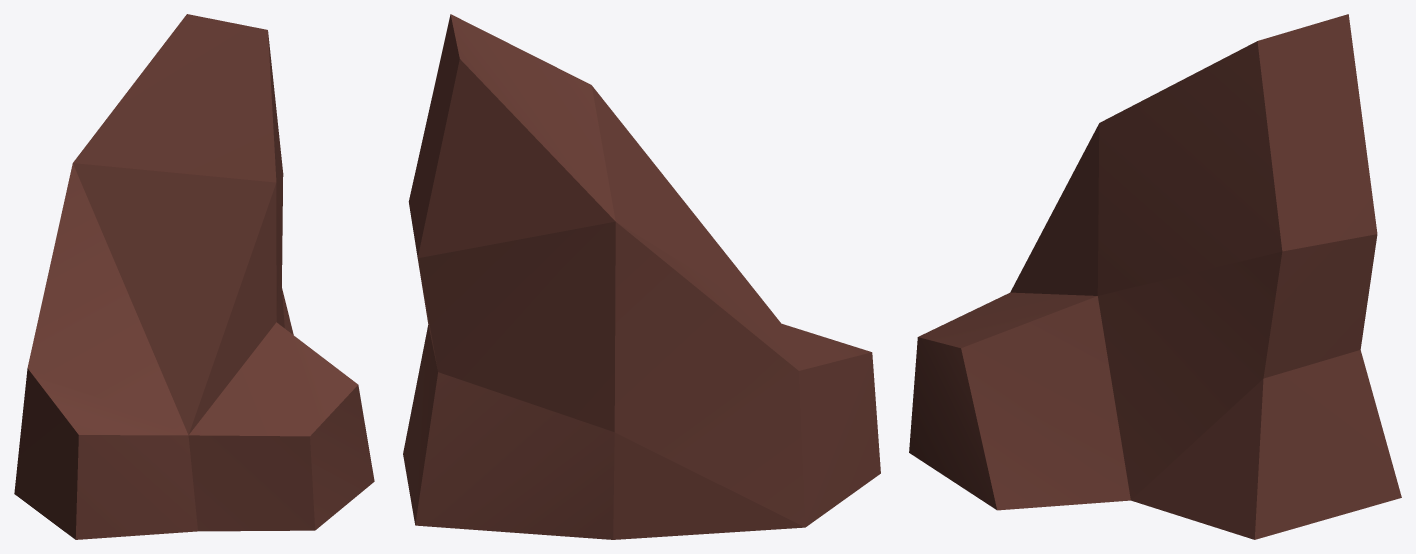
The model's file is dryBig_rockB.FBX.
The picture shows the model from 3 angles, left to right: view 1: azimuth 30°, elevation 25°; view 2: azimuth 150°, elevation 25°; view 3: azimuth 270°, elevation 25°; orthographic projection. The views are drawn at different scales.
Parts seen in each view (by area): view 1: dryBig_rockB; view 2: dryBig_rockB; view 3: dryBig_rockB.
Boxes of the visible parts, x1,y1,x2,y2 form: dryBig_rockB: [14, 14, 374, 539]; dryBig_rockB: [403, 14, 880, 539]; dryBig_rockB: [909, 14, 1401, 539].
Bounding box in the file's own units: 283 × 324 × 305.
